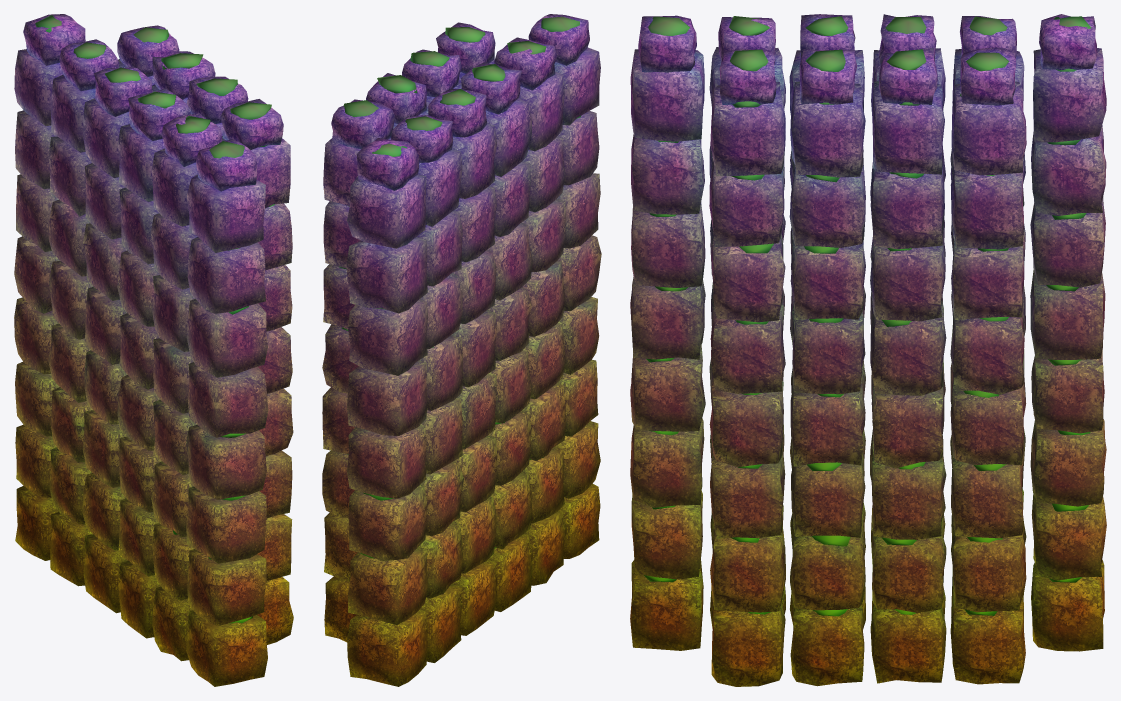
File: env_obstacle_stones.glb
3 renders of one model, left to right at view 1: azimuth 30°, elevation 25°; view 2: azimuth 150°, elevation 25°; view 3: azimuth 270°, elevation 25°, orthographic. The views are drawn at different scales.
Visible parts, largest first — view 1: stones_x6_z6_y5, stones_x6_z6_y2, stones_x6_z6_y0, stones_x6_z6_y3, stones_x6_z6_y1, stones_x6_z6_y4, stones_x6_z6_y6, stones_x6_z6_y7, stones_x6_z6_cap, stones_x7_z5_cap, stones_x6_z5_y7, stones_x6_z1_y7 (+54 smaller); view 2: stones_x6_z1_y6, stones_x6_z1_y0, stones_x6_z1_y4, stones_x6_z1_y3, stones_x6_z1_y1, stones_x6_z1_y5, stones_x6_z1_y2, stones_x6_z1_y7, stones_x6_z1_cap, stones_x7_z2_cap, stones_x6_z4_y7, stones_x6_z2_y4 (+54 smaller); view 3: stones_x7_z4_y7, stones_x7_z5_y7, stones_x6_z1_y4, stones_x7_z3_y4, stones_x7_z3_y6, stones_x7_z5_y1, stones_x7_z2_y7, stones_x7_z3_y2, stones_x6_z1_y2, stones_x6_z1_y7, stones_x7_z4_y1, stones_x6_z1_y6 (+48 smaller).
Boxes of the visible parts, x1,y1,x2,y2 form: stones_x6_z6_y5: (186,298,267,377); stones_x6_z6_y2: (186,486,266,563); stones_x6_z6_y0: (186,610,267,686); stones_x6_z6_y3: (186,425,266,499); stones_x6_z6_y1: (187,549,266,625); stones_x6_z6_y4: (187,362,268,437); stones_x6_z6_y6: (187,237,265,313); stones_x6_z6_y7: (186,174,265,252); stones_x6_z6_cap: (196,139,257,191); stones_x7_z5_cap: (220,99,283,149); stones_x6_z5_y7: (152,148,197,226); stones_x6_z1_y7: (14,49,62,125); stones_x6_z1_y6: (346,237,427,313); stones_x6_z1_y0: (347,609,427,686); stones_x6_z1_y4: (347,360,427,435); stones_x6_z1_y3: (347,424,426,498); stones_x6_z1_y1: (348,546,427,624); stones_x6_z1_y5: (348,299,427,375); stones_x6_z1_y2: (348,484,427,561); stones_x6_z1_y7: (347,174,426,248); stones_x6_z1_cap: (356,138,418,190); stones_x7_z2_cap: (331,99,394,148); stones_x6_z4_y7: (485,99,532,176); stones_x6_z2_y4: (419,335,462,410); stones_x7_z4_y7: (790,81,865,177); stones_x7_z5_y7: (710,82,785,175); stones_x6_z1_y4: (1030,269,1105,359); stones_x7_z3_y4: (870,301,946,395); stones_x7_z3_y6: (870,165,944,249); stones_x7_z5_y1: (710,526,785,612); stones_x7_z2_y7: (951,81,1026,175); stones_x7_z3_y2: (871,455,946,539); stones_x6_z1_y2: (1030,419,1106,506); stones_x6_z1_y7: (1033,48,1106,142); stones_x7_z4_y1: (790,519,865,610); stones_x6_z1_y6: (1031,125,1106,215).
Size of the model in its own units: 1.95 by 8.52 by 5.94.
Materials: 2 (2 with a texture image).
